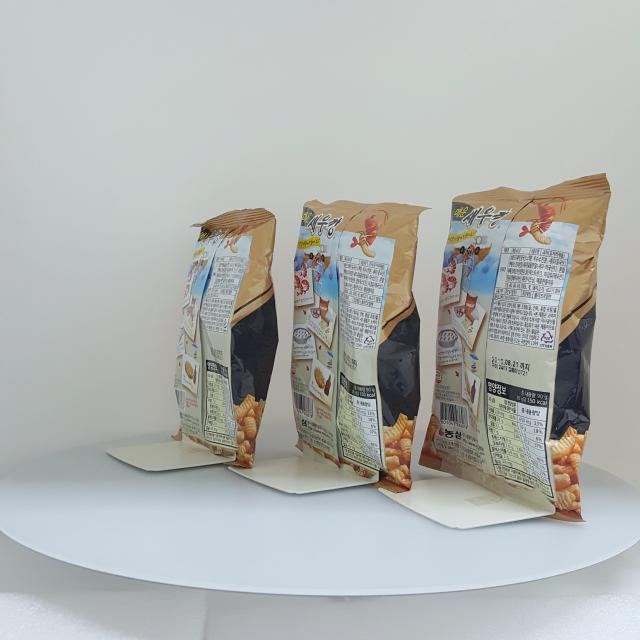-90G: (419, 174, 612, 524), (291, 200, 433, 494), (171, 208, 280, 471)
